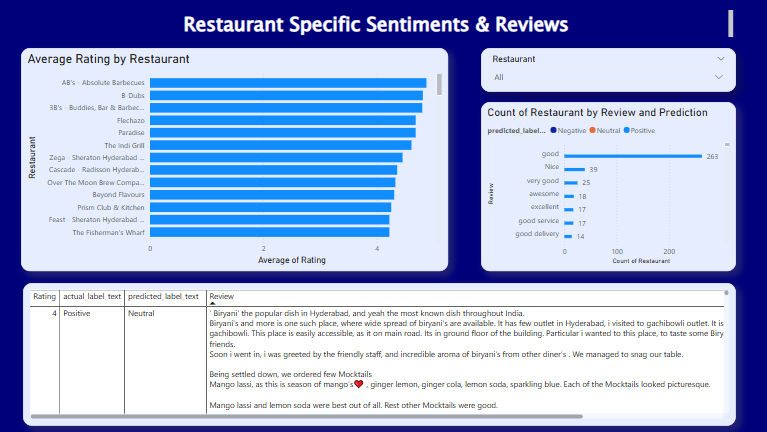

The dashboard page shown, as its layout file describes it:
{"tool":"powerbi","page":{"name":"Restaurant Insights","canvas":[1280,720],"ordinal":1},"visuals":[{"type":"slicer","fields":{"Values":["sentiment_analysis_data.Restaurant"]},"box":[801.7,80,425,73.3],"z":0},{"type":"textbox","box":[35,11.7,1191.7,56.7],"z":1000},{"type":"clusteredBarChart","title":"Average Rating by Restaurant","fields":{"Category":["sentiment_analysis_data.Restaurant"],"Y":["Avg(sentiment_analysis_data.Rating)"]},"box":[35,80,711.7,371.7],"z":2000},{"type":"clusteredBarChart","title":"Count of Restaurant by Review and Prediction","fields":{"Category":["sentiment_analysis_data.Review"],"Y":["CountNonNull(sentiment_analysis_data.Restaurant)"],"Series":["sentiment_analysis_data.predicted_label_text"]},"box":[801.7,170,425,281.7],"z":3000},{"type":"tableEx","fields":{"Values":["sentiment_analysis_data.Rating","sentiment_analysis_data.actual_label_text","sentiment_analysis_data.predicted_label_text","sentiment_analysis_data.Review"]},"box":[38.3,471.7,1188.3,238.3],"z":4000}]}

Visuals, with their boxes in screenshot pixels (x1, y1, x2, y2), scaled from the page's 1280x720 canvas onto the 767x432 screenshot:
slicer - sentiment_analysis_data.Restaurant: [480,48,735,92]
textbox: [21,7,735,41]
"Average Rating by Restaurant" clusteredBarChart: [21,48,447,271]
"Count of Restaurant by Review and Prediction" clusteredBarChart: [480,102,735,271]
tableEx - sentiment_analysis_data.Rating x sentiment_analysis_data.actual_label_text: [23,283,735,426]
